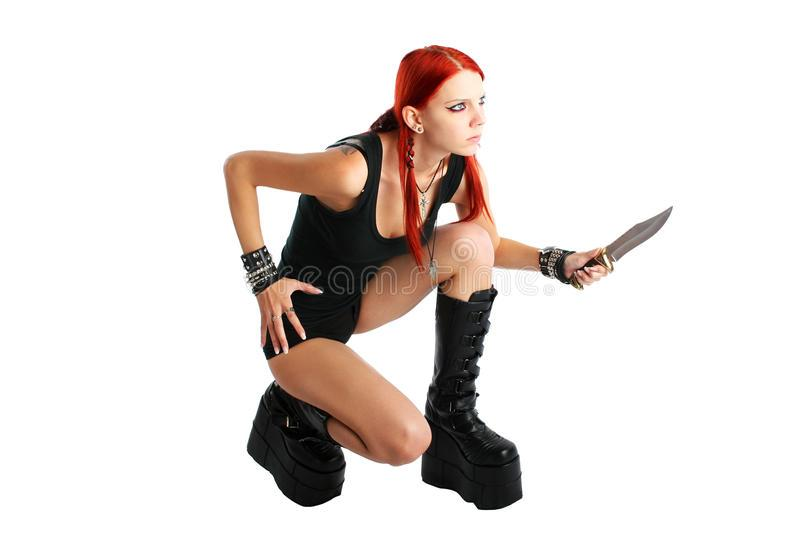criminal: (223, 41, 675, 513)
weapon: (566, 204, 675, 293)
